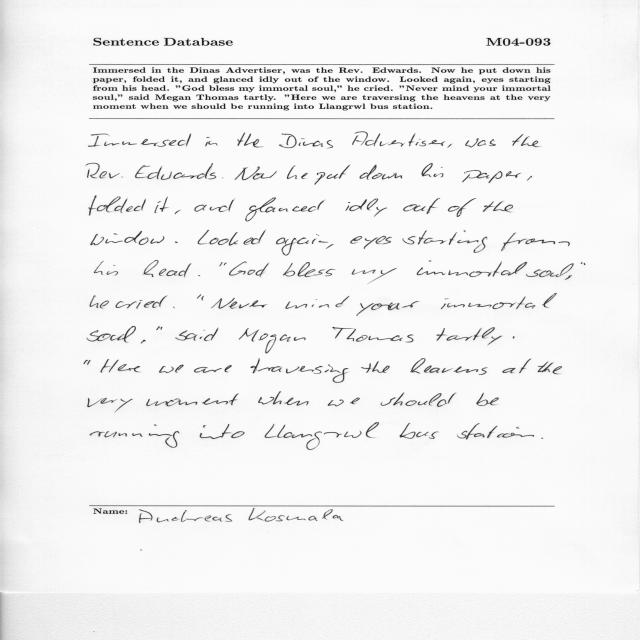word: (265, 422, 379, 450), (250, 358, 349, 383), (90, 424, 180, 448), (403, 230, 487, 253), (245, 198, 325, 222), (417, 261, 527, 278), (441, 293, 557, 309), (239, 329, 306, 354), (88, 133, 191, 147), (352, 132, 445, 147), (135, 163, 216, 180), (410, 358, 488, 375), (457, 423, 534, 440), (501, 233, 570, 251), (333, 327, 414, 342), (146, 394, 239, 407), (436, 327, 502, 345), (276, 234, 328, 256), (89, 196, 146, 216), (381, 392, 457, 407), (198, 230, 266, 246), (91, 231, 164, 245), (357, 301, 420, 316), (285, 296, 350, 309), (87, 326, 136, 343), (143, 261, 191, 278), (279, 134, 333, 149), (283, 262, 335, 277), (462, 170, 521, 183), (346, 199, 388, 217), (315, 165, 351, 185), (258, 392, 309, 406), (116, 296, 168, 309), (352, 268, 397, 283), (200, 424, 245, 439), (526, 263, 574, 277), (229, 262, 269, 278), (360, 165, 402, 180), (400, 423, 439, 439), (211, 298, 267, 309), (403, 198, 440, 214), (88, 398, 133, 411), (195, 198, 236, 212), (101, 359, 141, 373), (176, 328, 219, 341), (86, 164, 123, 179), (235, 167, 277, 180), (350, 236, 392, 249), (448, 198, 476, 217), (502, 359, 532, 373), (238, 133, 263, 148), (513, 134, 540, 147), (94, 261, 118, 275), (483, 202, 513, 213), (361, 362, 390, 373), (422, 163, 444, 177), (194, 365, 232, 373), (476, 393, 499, 406), (538, 362, 562, 374), (465, 139, 496, 148), (287, 166, 308, 179), (90, 295, 109, 309), (328, 398, 360, 406), (155, 197, 169, 213), (159, 365, 184, 373), (205, 137, 218, 146), (197, 294, 204, 301), (326, 244, 334, 249), (565, 275, 572, 280), (219, 262, 227, 266), (84, 360, 90, 365), (527, 176, 532, 181), (175, 210, 180, 215), (157, 326, 163, 330), (448, 144, 453, 148), (141, 340, 146, 344), (581, 262, 586, 265), (175, 242, 178, 244), (513, 336, 515, 339), (199, 275, 201, 276), (173, 307, 175, 308), (542, 438, 544, 439), (222, 178, 223, 179)
